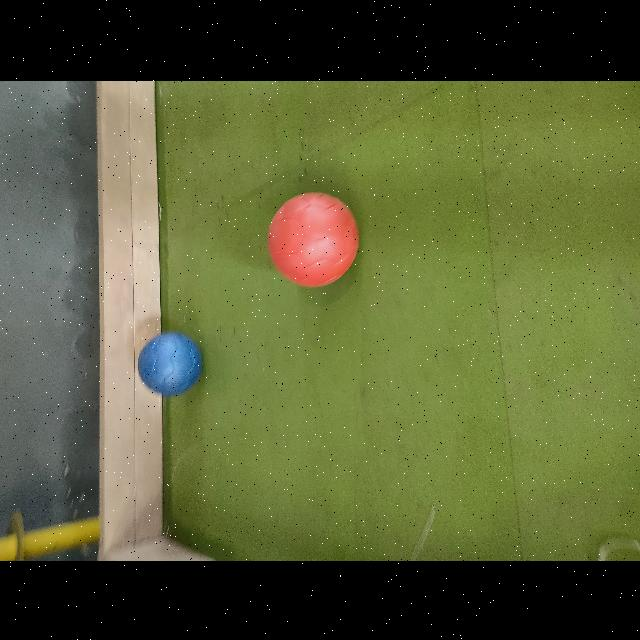B: (138, 331, 201, 395)
R: (268, 191, 358, 286)
